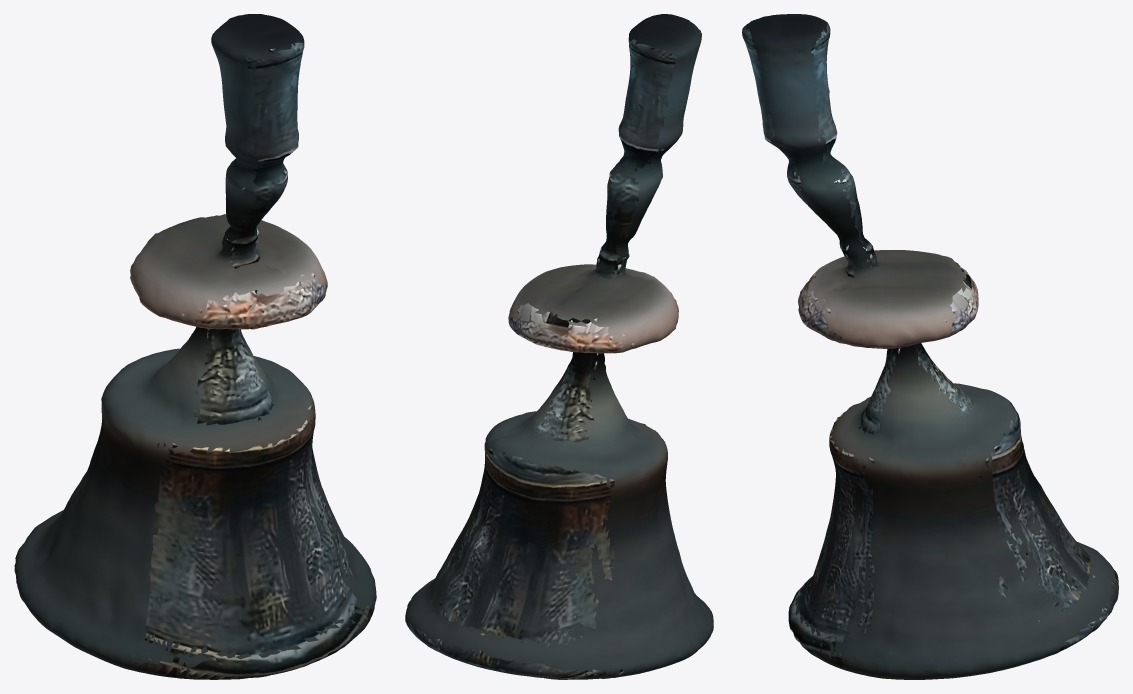
The model's file is kfl-2151.glb.
3 views of the same model, side by side, from view 1: azimuth 30°, elevation 25°; view 2: azimuth 150°, elevation 25°; view 3: azimuth 270°, elevation 25° (orthographic). The views are drawn at different scales.
Visible parts, largest first — view 1: kfl-2151; view 2: kfl-2151; view 3: kfl-2151.
Boxes of the visible parts, x1=… form: kfl-2151: x1=14, y1=14, x2=376, y2=679; kfl-2151: x1=405, y1=14, x2=713, y2=679; kfl-2151: x1=742, y1=14, x2=1118, y2=679.
Bounding box in the file's own units: 0.4919 × 0.9989 × 0.5729.
4 materials, 4 textured.
